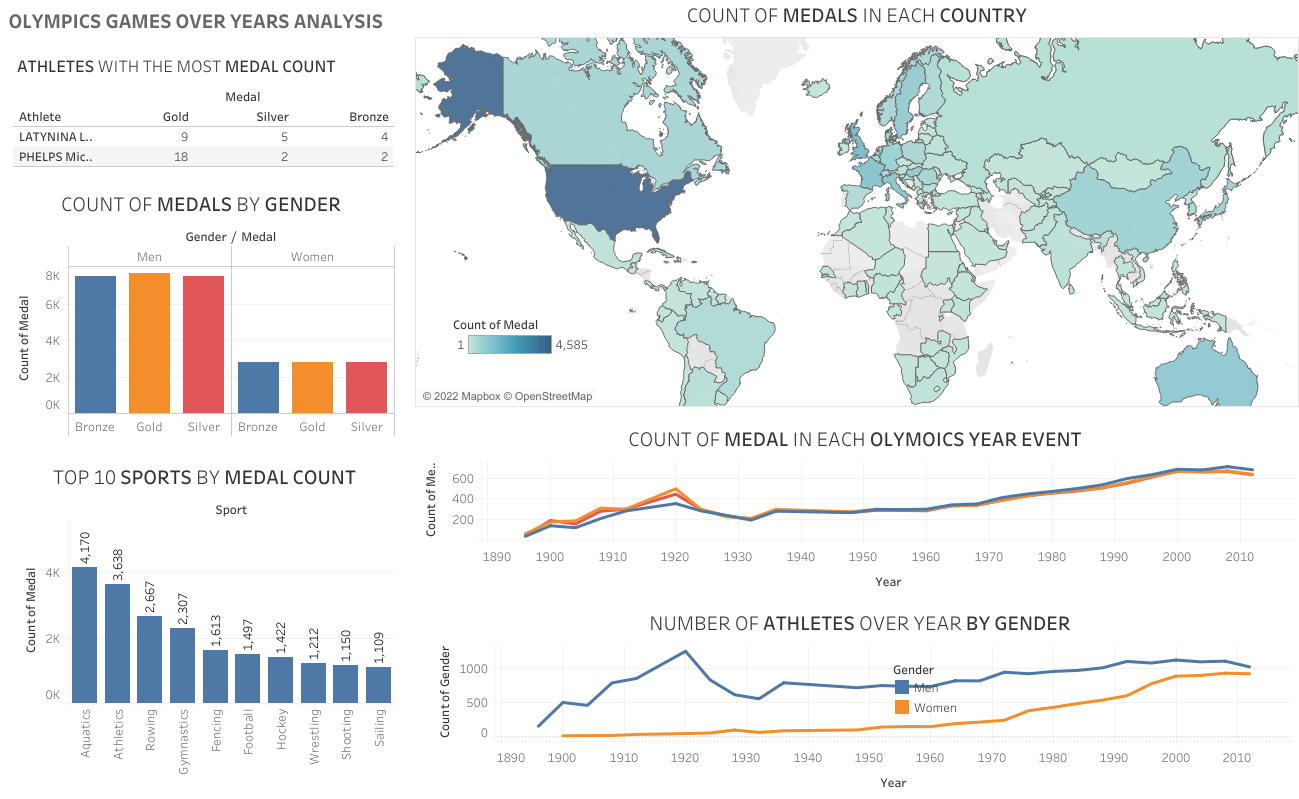

This screenshot's page, from the dashboard's own definition file:
{"tool":"tableau","page":{"name":"Olympics Dashboard","canvas":[1300,800],"ordinal":0},"visuals":[{"type":"text","box":[6,5,380,30]},{"type":"worksheet","title":"Sheet 6","mark":"Automatic","rows":["Athlete"],"cols":["Medal"],"box":[13,48,383,130]},{"type":"worksheet","title":"Sheet 2","mark":"Automatic","rows":["Medal"],"cols":["Gender","Medal"],"box":[7,184,388,252]},{"type":"legend","title":"COUNT OF MEDALS IN EACH COUNTRY","param":"[federated.1wy73nr1o3uupw1516fit1wkaybx].[cnt:Medal:qk]","box":[453,311,140,71]},{"type":"worksheet","title":"Sheet 4","mark":"Automatic","rows":["Medal"],"cols":["Year"],"box":[414,419,882,178]},{"type":"worksheet","title":"Sheet 3","mark":"Automatic","rows":["Medal"],"cols":["Sport"],"box":[14,457,381,326]},{"type":"worksheet","title":"Sheet 7","mark":"Automatic","rows":["Gender"],"cols":["Year"],"box":[428,603,864,195]},{"type":"legend","title":"Sheet 7","param":"[federated.1wy73nr1o3uupw1516fit1wkaybx].[none:Gender:nk]","box":[892,658,140,59]}]}

Visuals, with their boxes in screenshot pixels (x1, y1, x2, y2), scaled from the page's 1300x800 canvas onto the 1299x799 screenshot:
text: [6, 5, 386, 35]
"Sheet 6" worksheet: [13, 48, 396, 178]
"Sheet 2" worksheet: [7, 184, 395, 435]
"COUNT OF MEDALS IN EACH COUNTRY" legend: [453, 311, 593, 382]
"Sheet 4" worksheet: [414, 418, 1295, 596]
"Sheet 3" worksheet: [14, 456, 395, 782]
"Sheet 7" worksheet: [428, 602, 1291, 797]
"Sheet 7" legend: [891, 657, 1031, 716]
